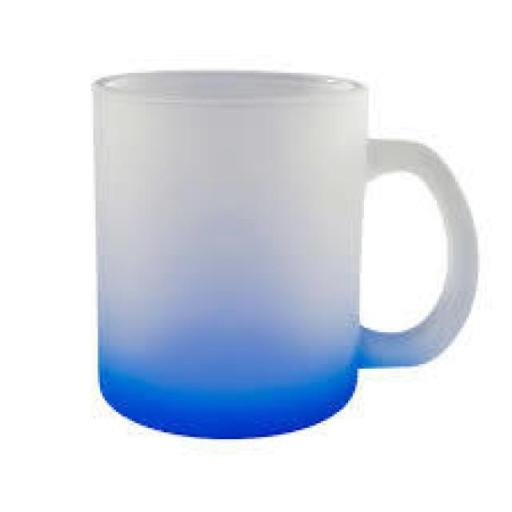glass: (89, 54, 483, 448)
